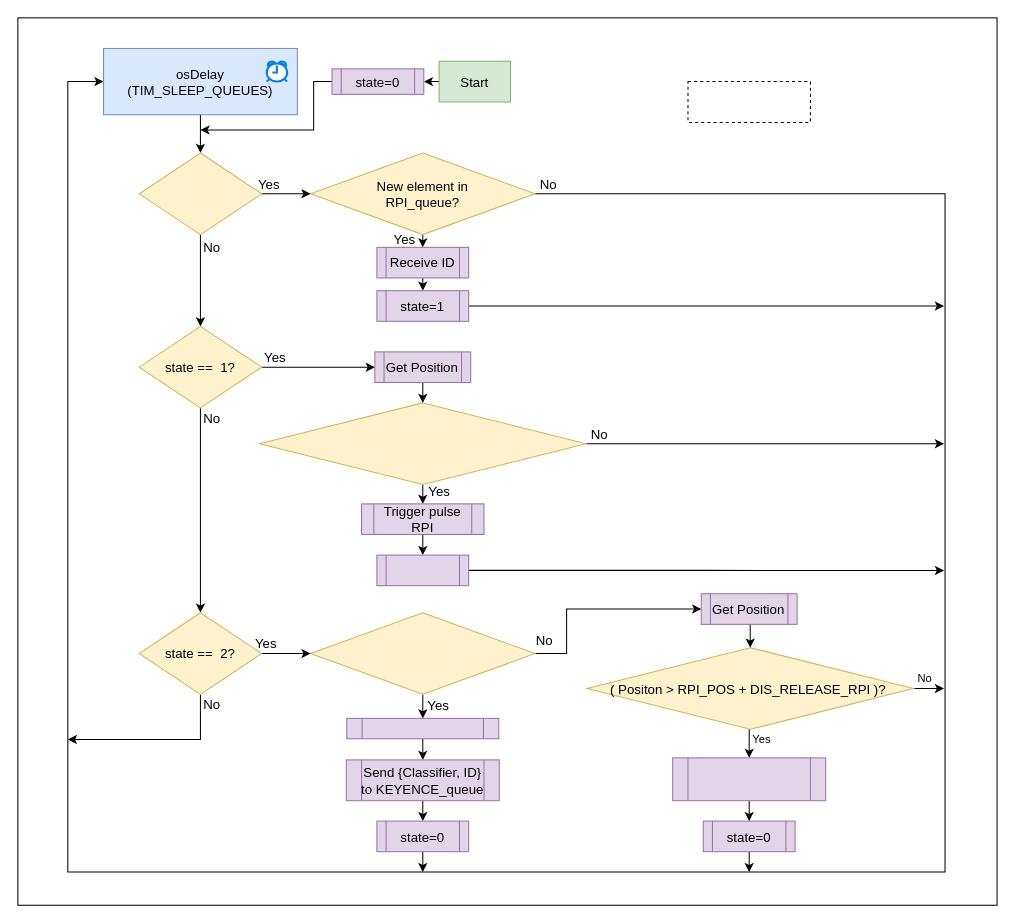
The diagram is 1015 pixels wide and 923 high, and some of its shapes have lost their labels. The centre of each missing label's shape, as x and y in pixels:
"( Position > RPI_POS -TOLERANCE_TRG)?" belongs at (x=422, y=443).
"New element in classifier_queue?" belongs at (x=422, y=653).
"Receive Classifier" belongs at (x=422, y=728).
"Send ID to DISCARD_queue" belongs at (x=749, y=779).
"state == 0?" belongs at (x=200, y=193).
"state=2" belongs at (x=422, y=570).
"t_RPI" belongs at (x=748, y=101).
